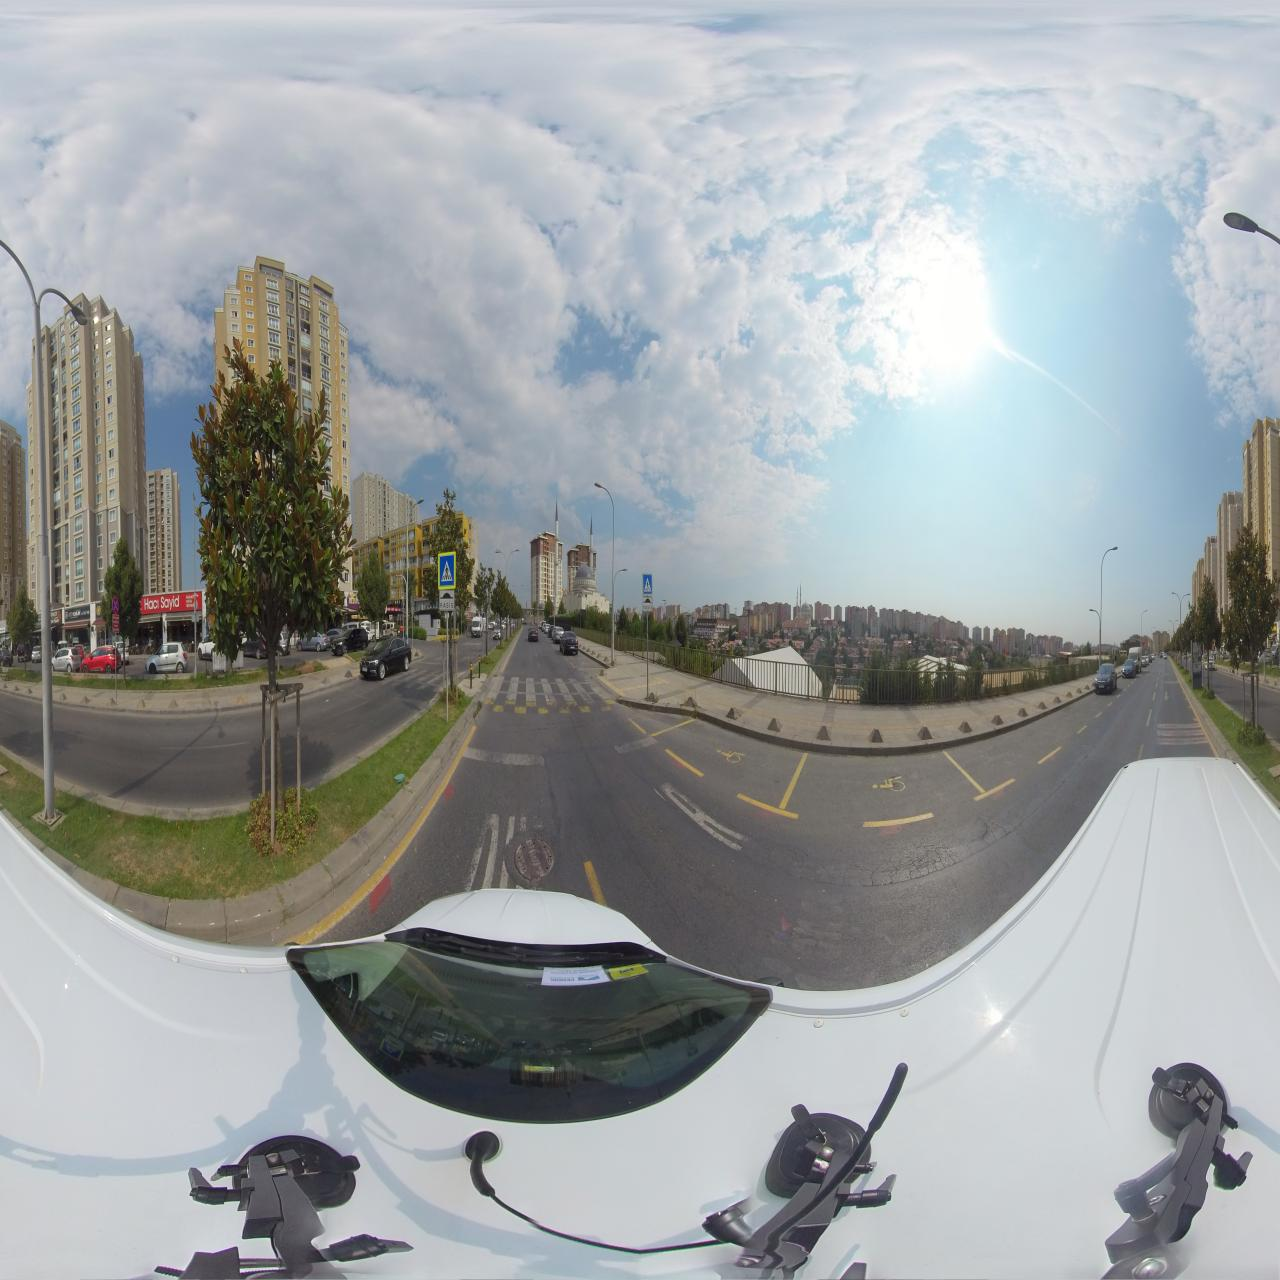SignStore: (143, 592, 193, 614), (64, 605, 90, 622), (50, 610, 62, 625)
